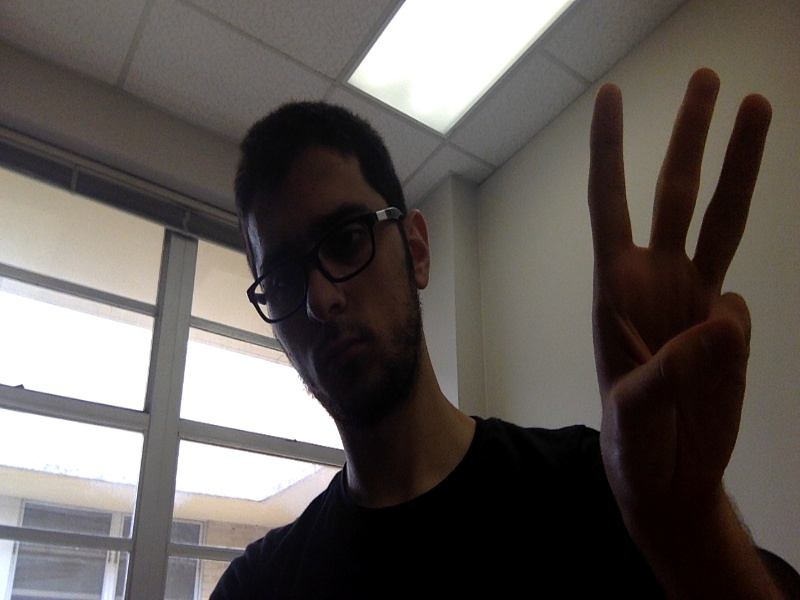3-hand: (590, 67, 772, 515)
